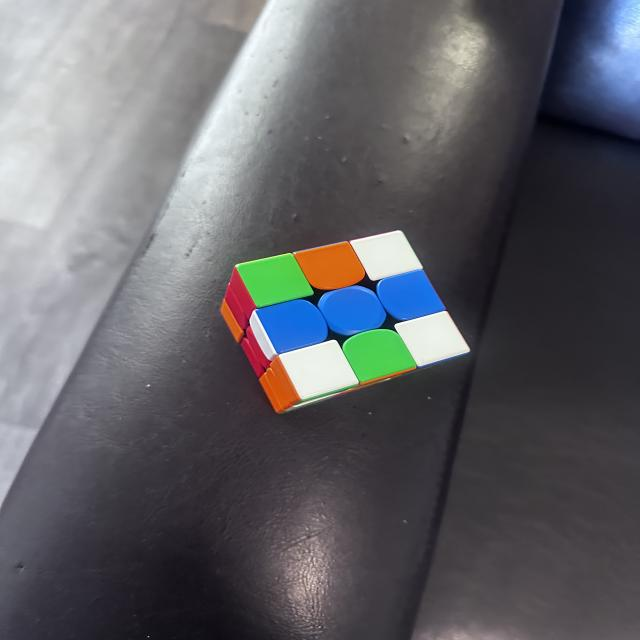sticker: (274, 340, 358, 403), (391, 310, 472, 369), (252, 298, 327, 359), (347, 228, 423, 284), (234, 254, 312, 308), (341, 328, 416, 384), (316, 284, 387, 338), (377, 269, 445, 322), (294, 241, 366, 291), (259, 362, 301, 414), (223, 268, 256, 322), (240, 326, 271, 377), (221, 302, 244, 344)
